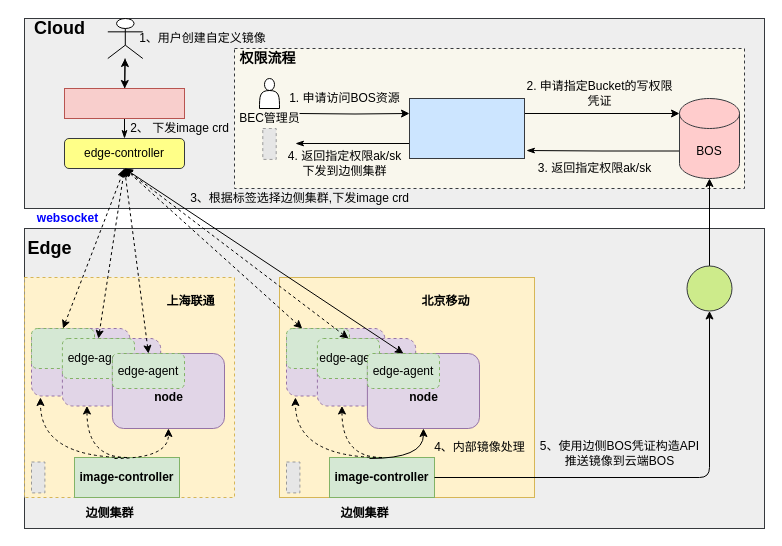
The diagram is 782 pixels wide and 546 high, and some of its shapes have lost their labels. Grey dashed boxes stand in for pictures. The shapes that lost their labels are listed below. From the top down, each one's box as (x1, y1, x2, y2) in pixels, then its label:
(64, 88, 184, 118): Service
(408, 98, 524, 158): AppServer
(686, 265, 732, 311): image
